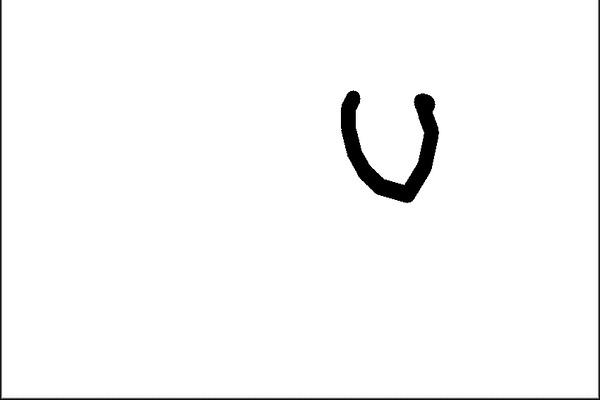U: (327, 83, 452, 212)
